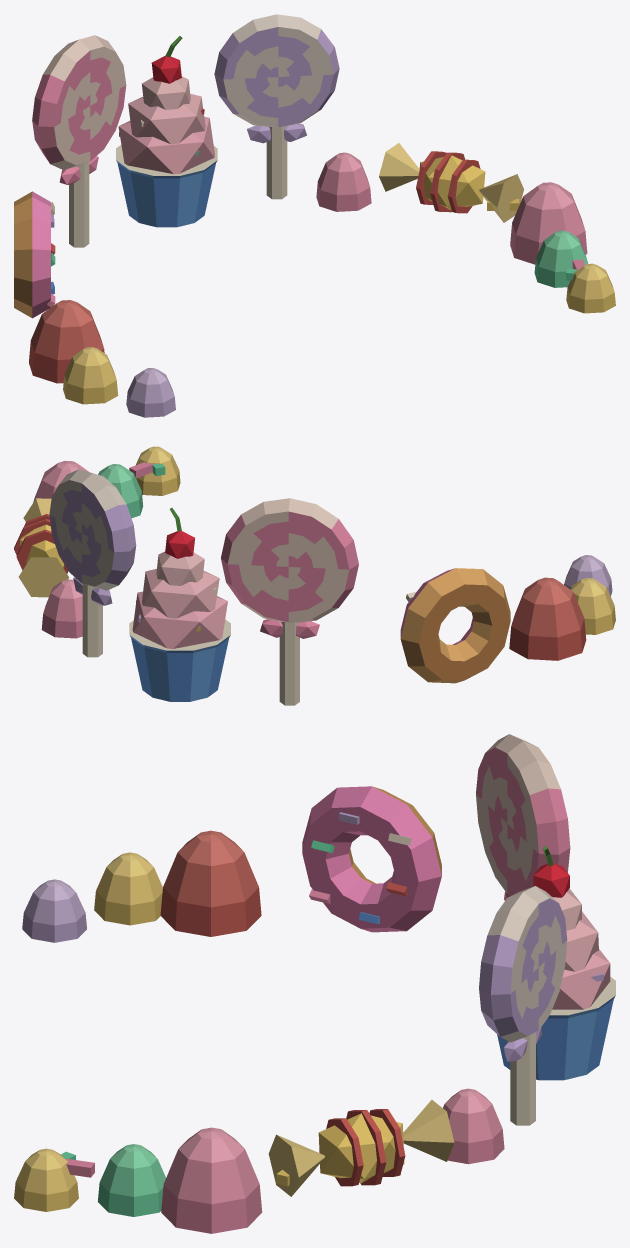
Rendered from habitat_theme_sweets.fbx.
3 renders of one model, top to bottom at view 1: azimuth 30°, elevation 25°; view 2: azimuth 150°, elevation 25°; view 3: azimuth 270°, elevation 25°, orthographic. The views are drawn at different scales.
Visible parts, largest first — view 1: habitat_theme_sweets; view 2: habitat_theme_sweets; view 3: habitat_theme_sweets.
Boxes of the visible parts, box(x1,y1,x2,y2) form: habitat_theme_sweets: box(14, 14, 615, 417); habitat_theme_sweets: box(14, 446, 615, 705); habitat_theme_sweets: box(14, 734, 615, 1233).
Bounding box in the file's own units: 7.48 × 2.65 × 5.6.
